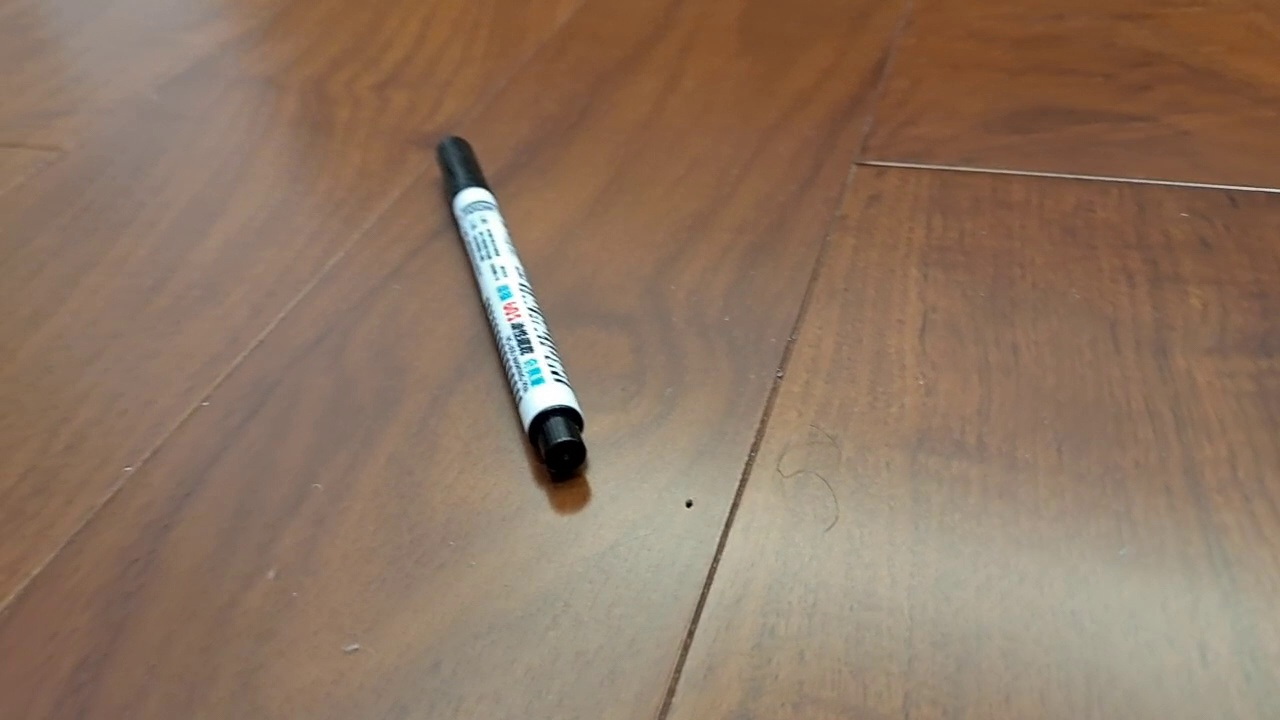pen: (434, 134, 589, 481)
